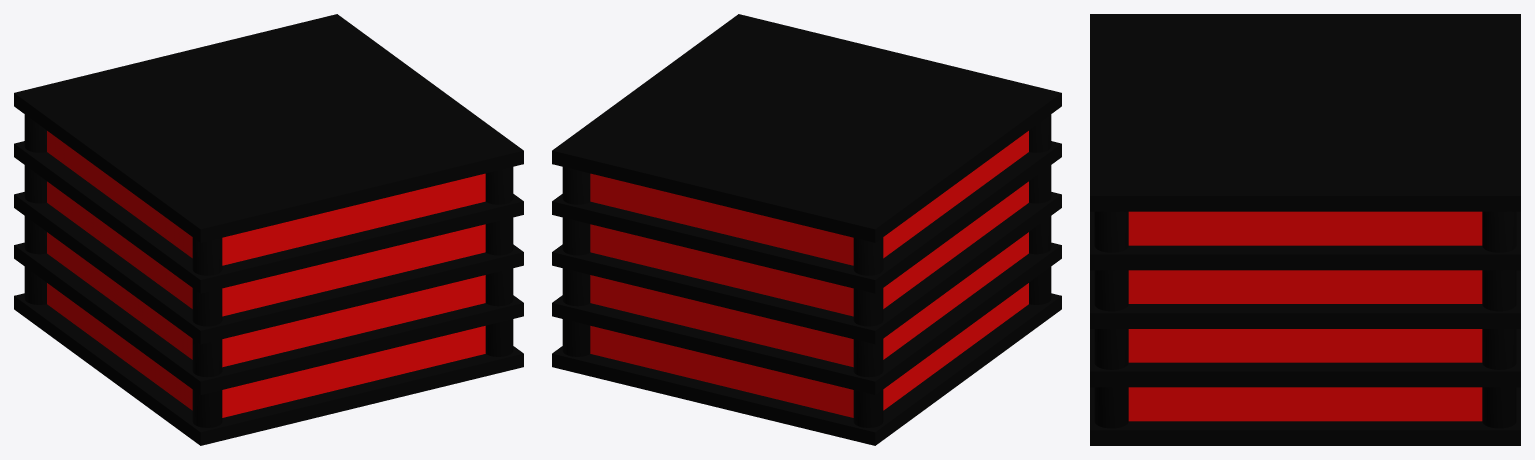
File: RedCollectable.glb
3 views of the same model, side by side, from view 1: azimuth 30°, elevation 25°; view 2: azimuth 150°, elevation 25°; view 3: azimuth 270°, elevation 25° (orthographic). The views are drawn at different scales.
Parts seen in each view (by area): view 1: Cube.002, Cube.003, Cube.001, Cube.004, Cube, Cube.005, Cylinder.002, Cylinder.001, Cylinder.003; view 2: Cube.002, Cube.003, Cube.001, Cube.004, Cube, Cube.005, Cylinder.003, Cylinder, Cylinder.002; view 3: Cube.002, Cube.003, Cube.001, Cube.005, Cube, Cube.004, Cylinder, Cylinder.001.
Part boxes in pixels (box(x1,y1,x2,y2)): Cube.002: box(14, 14, 523, 242); Cube.003: box(47, 131, 485, 417); Cube.001: box(14, 141, 523, 293); Cube.004: box(14, 293, 523, 445); Cube: box(14, 192, 523, 344); Cube.005: box(14, 242, 523, 394); Cylinder.002: box(192, 237, 222, 427); Cylinder.001: box(485, 167, 513, 356); Cylinder.003: box(24, 114, 46, 304); Cube.002: box(552, 14, 1061, 242); Cube.003: box(590, 131, 1028, 417); Cube.001: box(552, 141, 1061, 293); Cube.004: box(552, 293, 1061, 445); Cube: box(552, 192, 1061, 344); Cube.005: box(552, 242, 1061, 394); Cylinder.003: box(853, 237, 883, 427); Cylinder: box(562, 167, 590, 356); Cylinder.002: box(1029, 114, 1051, 304); Cube.002: box(1090, 14, 1520, 211); Cube.003: box(1128, 211, 1482, 421); Cube.001: box(1090, 211, 1520, 270); Cube.005: box(1090, 329, 1520, 387); Cube: box(1090, 270, 1520, 328); Cube.004: box(1090, 387, 1520, 445); Cylinder: box(1482, 211, 1516, 428); Cylinder.001: box(1094, 211, 1128, 428).
Size of the model in its own units: 2 by 1.28 by 2.
